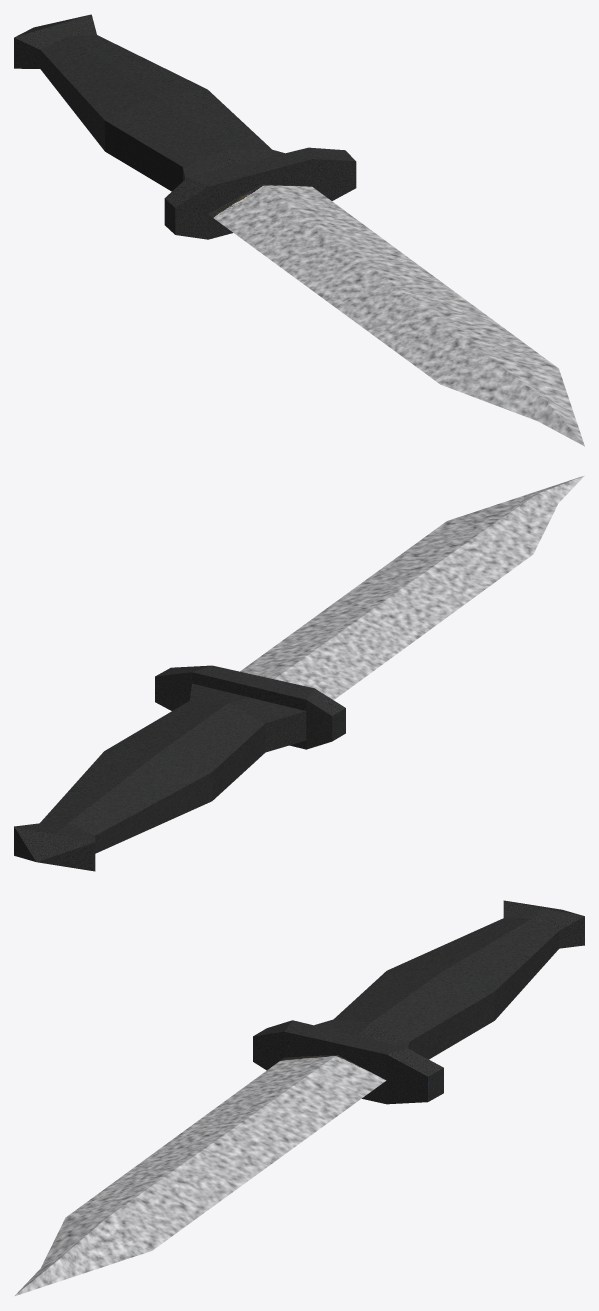
File: Cuchi loco.glb
3 views of the same model, one above another, from view 1: azimuth 30°, elevation 25°; view 2: azimuth 150°, elevation 25°; view 3: azimuth 330°, elevation 25° (orthographic). The views are drawn at different scales.
Visible parts, largest first — view 1: cuchi loco; view 2: cuchi loco; view 3: cuchi loco.
Boxes of the visible parts, x1,y1,x2,y2 form: cuchi loco: (14, 14, 584, 446); cuchi loco: (14, 475, 584, 871); cuchi loco: (14, 900, 584, 1296).
Bounding box in the file's own units: 0.2443 × 0.0663 × 1.29.
Materials: 1 (1 with a texture image).
